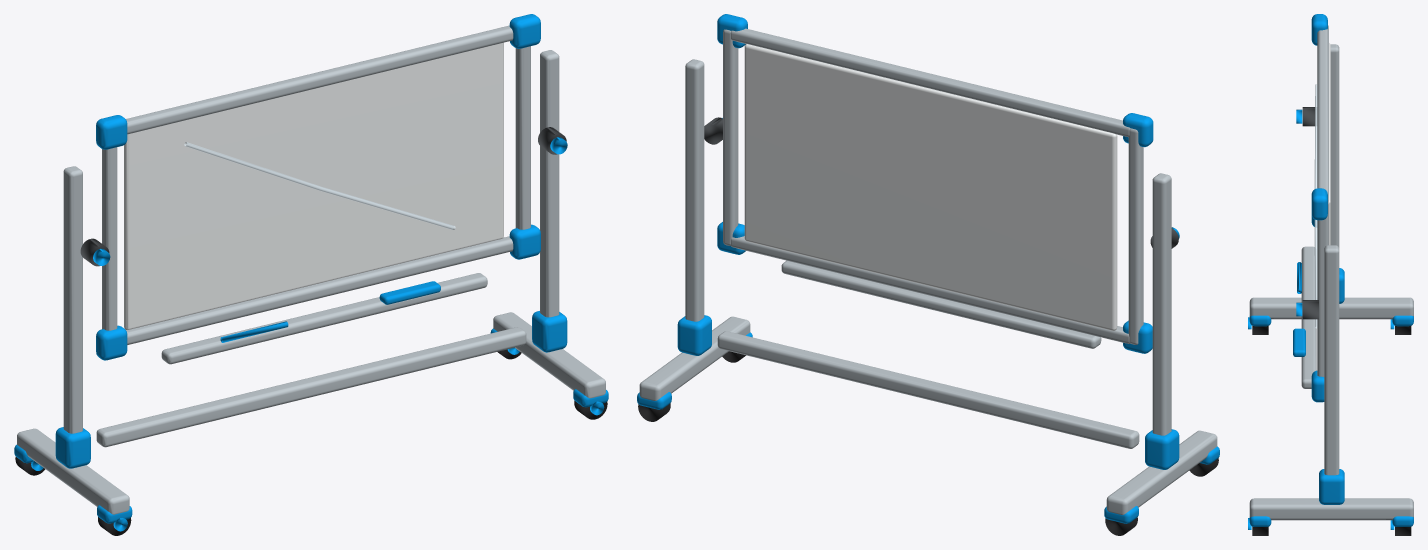
The model's file is Whiteboard_3D.glb.
3 views of the same model, side by side, from view 1: azimuth 30°, elevation 25°; view 2: azimuth 150°, elevation 25°; view 3: azimuth 270°, elevation 25° (orthographic). The views are drawn at different scales.
Visible parts, largest first — view 1: Whiteboard_3D__web_clean_glossy_whiteboard_writing_surface, Whiteboard_3D__web_brushed_grey_whiteboard_aluminium_frame, Whiteboard_3D__web_glossy_blue_whiteboard_plastic_corner_cap, Whiteboard_3D__web_faint_diagonal_sheen_on_glossy_whiteboard, Whiteboard_3D__web_blue_whiteboard_marker_and_tray_insert, Whiteboard_3D__web_black_rubber_tires_on_whiteboard_casters, Whiteboard_3D__web_dark_grey_whiteboard_wheels_and_pivots; view 2: Whiteboard_3D__web_clean_glossy_whiteboard_writing_surface, Whiteboard_3D__web_brushed_grey_whiteboard_aluminium_frame, Whiteboard_3D__web_glossy_blue_whiteboard_plastic_corner_cap, Whiteboard_3D__web_black_rubber_tires_on_whiteboard_casters; view 3: Whiteboard_3D__web_brushed_grey_whiteboard_aluminium_frame, Whiteboard_3D__web_glossy_blue_whiteboard_plastic_corner_cap, Whiteboard_3D__web_faint_diagonal_sheen_on_glossy_whiteboard, Whiteboard_3D__web_black_rubber_tires_on_whiteboard_casters, Whiteboard_3D__web_dark_grey_whiteboard_wheels_and_pivots, Whiteboard_3D__web_blue_whiteboard_marker_and_tray_insert, Whiteboard_3D__web_clean_glossy_whiteboard_writing_surface.
Boxes of the visible parts, <box> form: Whiteboard_3D__web_clean_glossy_whiteboard_writing_surface: <box>124,42,503,329</box>; Whiteboard_3D__web_brushed_grey_whiteboard_aluminium_frame: <box>17,25,605,514</box>; Whiteboard_3D__web_glossy_blue_whiteboard_plastic_corner_cap: <box>14,14,608,531</box>; Whiteboard_3D__web_faint_diagonal_sheen_on_glossy_whiteboard: <box>184,142,455,229</box>; Whiteboard_3D__web_blue_whiteboard_marker_and_tray_insert: <box>220,281,440,342</box>; Whiteboard_3D__web_black_rubber_tires_on_whiteboard_casters: <box>15,349,607,535</box>; Whiteboard_3D__web_dark_grey_whiteboard_wheels_and_pivots: <box>80,127,566,266</box>; Whiteboard_3D__web_clean_glossy_whiteboard_writing_surface: <box>744,44,1117,330</box>; Whiteboard_3D__web_brushed_grey_whiteboard_aluminium_frame: <box>639,28,1217,514</box>; Whiteboard_3D__web_glossy_blue_whiteboard_plastic_corner_cap: <box>637,14,1219,523</box>; Whiteboard_3D__web_black_rubber_tires_on_whiteboard_casters: <box>638,351,1218,535</box>; Whiteboard_3D__web_brushed_grey_whiteboard_aluminium_frame: <box>1249,25,1413,520</box>; Whiteboard_3D__web_glossy_blue_whiteboard_plastic_corner_cap: <box>1248,14,1413,529</box>; Whiteboard_3D__web_faint_diagonal_sheen_on_glossy_whiteboard: <box>1314,84,1317,328</box>; Whiteboard_3D__web_black_rubber_tires_on_whiteboard_casters: <box>1252,326,1411,535</box>; Whiteboard_3D__web_dark_grey_whiteboard_wheels_and_pivots: <box>1302,107,1318,319</box>; Whiteboard_3D__web_blue_whiteboard_marker_and_tray_insert: <box>1293,262,1305,356</box>; Whiteboard_3D__web_clean_glossy_whiteboard_writing_surface: <box>1329,43,1330,245</box>.
Size of the model in its own units: 2.33 by 1.68 by 0.768.
